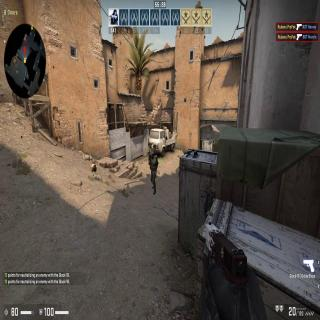CT-Body: (148, 148, 158, 190), (147, 142, 154, 158), (212, 139, 214, 150)
CT-Head: (150, 152, 154, 158), (148, 142, 152, 147), (212, 138, 215, 142)
